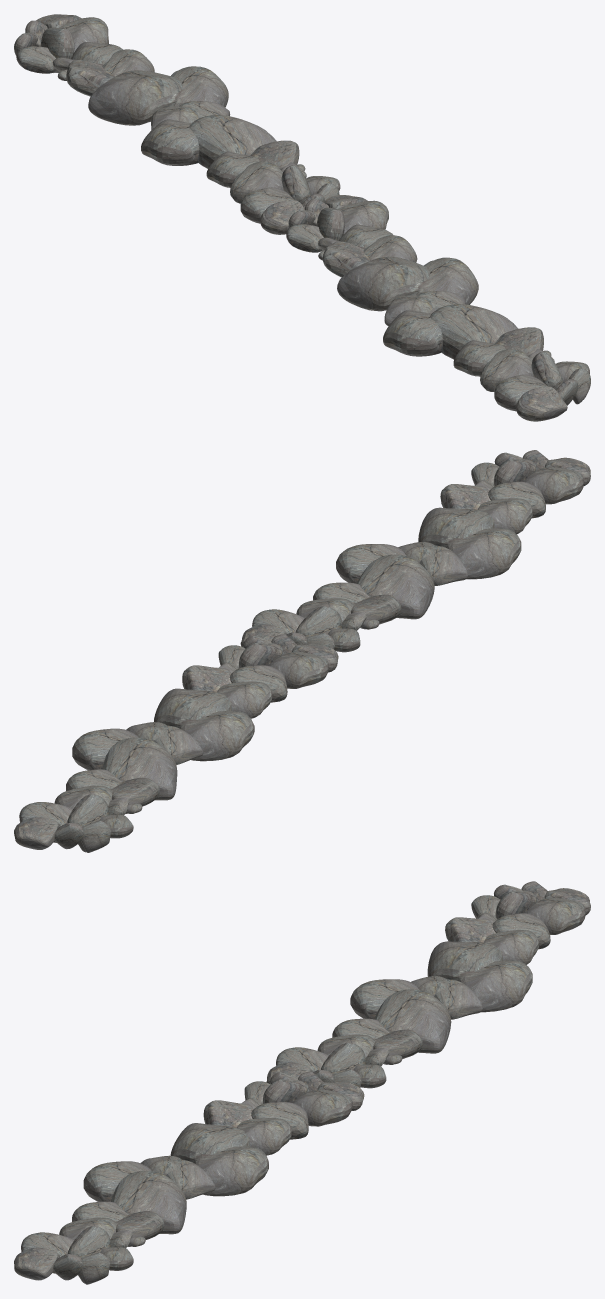
File: Rocher.fbx
3 views of the same model, one above another, from view 1: azimuth 30°, elevation 25°; view 2: azimuth 150°, elevation 25°; view 3: azimuth 330°, elevation 25° (orthographic).
Visible parts, largest first — view 1: Cube.003; view 2: Cube.003; view 3: Cube.003.
Part boxes in pixels (bbox=[...]): Cube.003: bbox=[14, 14, 590, 421]; Cube.003: bbox=[14, 450, 590, 852]; Cube.003: bbox=[14, 881, 590, 1284].
Bounding box in the file's own units: 141 × 48.2 × 937.
